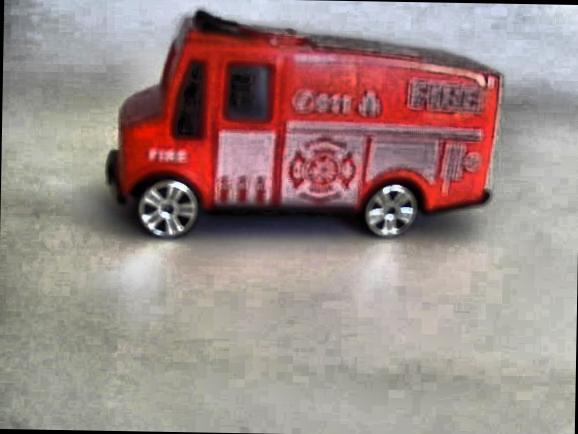fire_truck: (108, 37, 499, 232)
